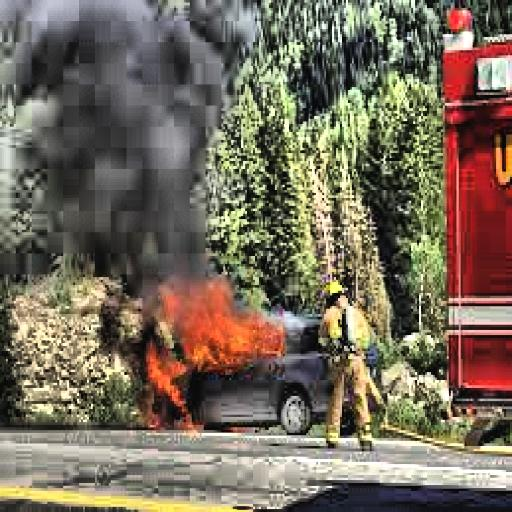fire: (122, 280, 290, 430)
